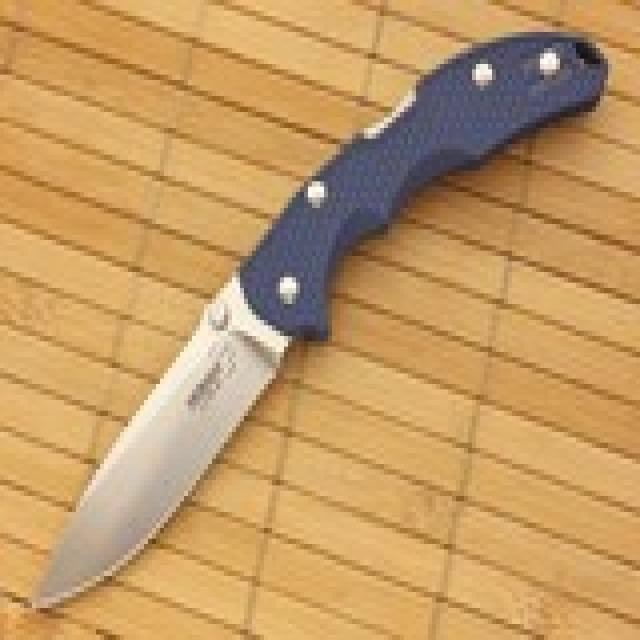Knife: (16, 26, 609, 619)
